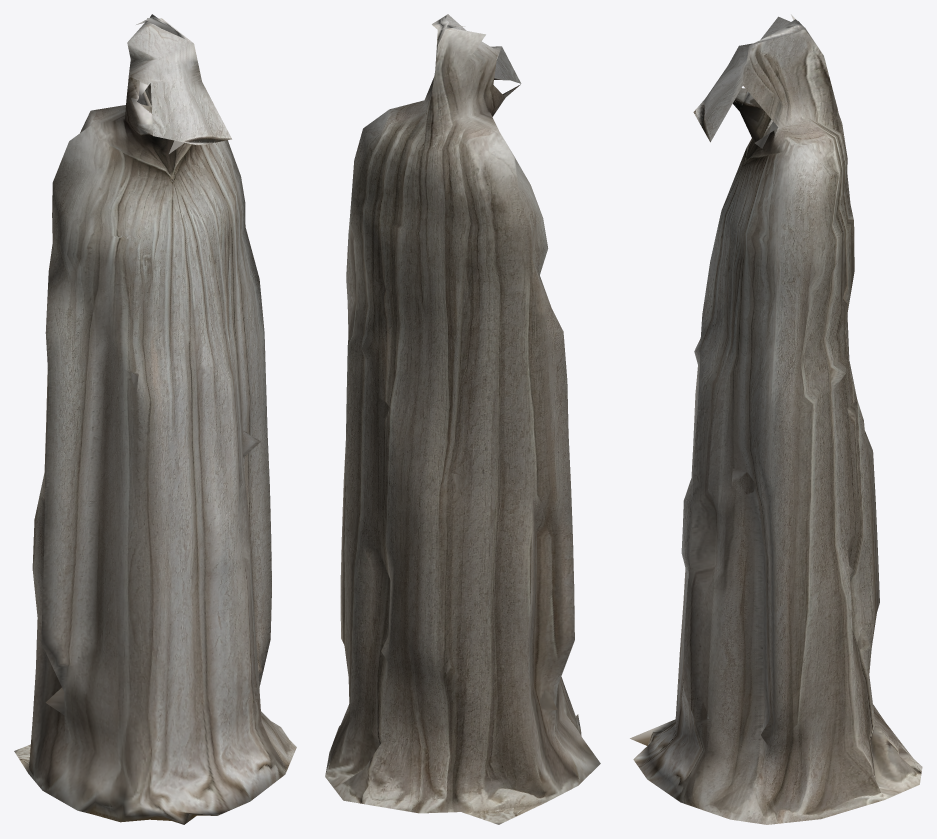
The model's file is Figure1_test_v1.glb.
3 renders of one model, left to right at view 1: azimuth 30°, elevation 25°; view 2: azimuth 150°, elevation 25°; view 3: azimuth 270°, elevation 25°, orthographic.
Parts seen in each view (by area): view 1: texture_mapping; view 2: texture_mapping; view 3: texture_mapping.
Part boxes in pixels (bbox=[...]): texture_mapping: bbox=[14, 14, 296, 824]; texture_mapping: bbox=[325, 14, 600, 824]; texture_mapping: bbox=[630, 14, 922, 824].
Size of the model in its own units: 0.3334 by 0.996 by 0.3501.
Materials: 1 (1 with a texture image).
